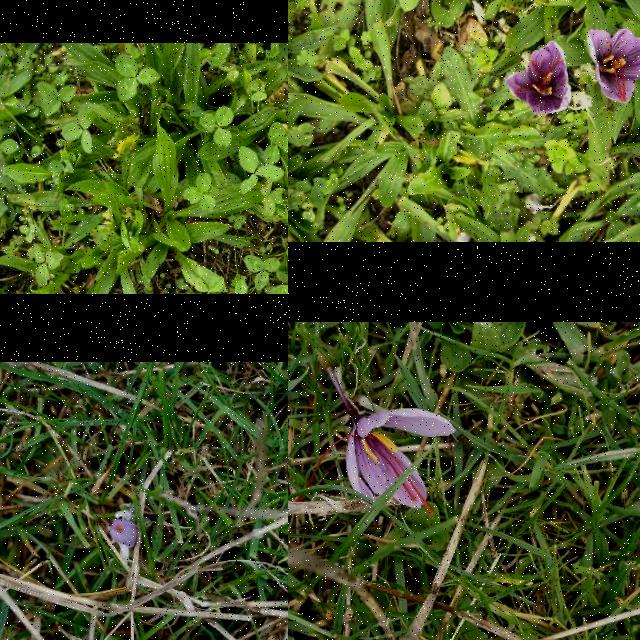flower: (346, 409, 456, 515), (507, 42, 573, 116), (587, 29, 640, 104), (111, 519, 137, 547)
